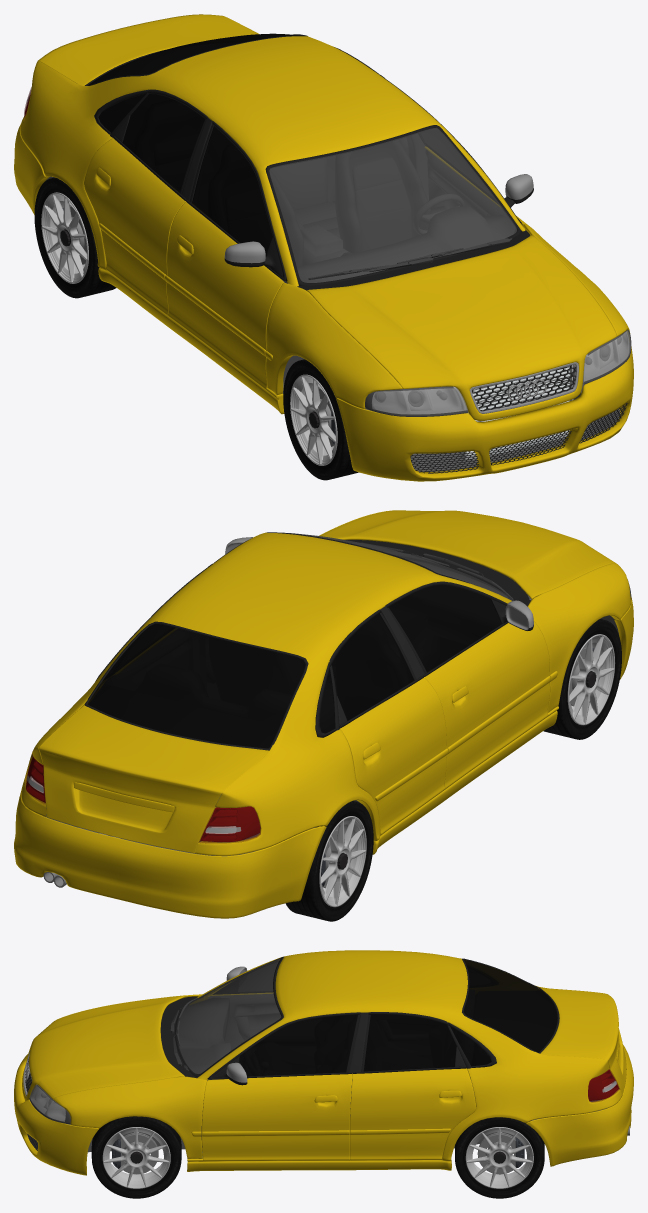
3 renders of one model, top to bottom at view 1: azimuth 30°, elevation 25°; view 2: azimuth 150°, elevation 25°; view 3: azimuth 270°, elevation 25°, orthographic. The views are drawn at different scales.
Visible parts, largest first — view 1: a4-b5-body_1, hood_62, windshield_48, front-bumper_18, front-door_23, front-fender_13, rear-door_92, seats-front_71, side-glass.001_25, dashboard_68, trunk_109, side-glass.002_94 (+28 smaller); view 2: a4-b5-body_1, trunk_109, rear-bumper_86, rear-glass_50, front-door_23, hood_62, rear-door_92, front-fender_13, side-glass.001_25, side-glass.002_94, tire-low-v1-02.001_105, rotiform-wheel.001_103 (+17 smaller); view 3: a4-b5-body_1, front-door_23, hood_62, rear-door_92, windshield_48, front-fender_13, side-glass.001_25, rear-glass_50, trunk_109, rear-bumper_86, side-glass.002_94, front-bumper_18 (+23 smaller).
Part boxes in pixels (bbox=[...]): a4-b5-body_1: bbox=[20, 22, 525, 286]; hood_62: bbox=[307, 235, 616, 420]; windshield_48: bbox=[269, 127, 516, 282]; front-bumper_18: bbox=[336, 346, 633, 481]; front-door_23: bbox=[166, 146, 531, 390]; front-fender_13: bbox=[266, 224, 630, 408]; rear-door_92: bbox=[83, 138, 185, 315]; seats-front_71: bbox=[269, 140, 430, 266]; side-glass.001_25: bbox=[192, 126, 521, 281]; dashboard_68: bbox=[280, 206, 515, 283]; trunk_109: bbox=[38, 14, 256, 85]; side-glass.002_94: bbox=[122, 94, 205, 192]; a4-b5-body_1: bbox=[21, 532, 511, 855]; trunk_109: bbox=[39, 705, 268, 853]; rear-bumper_86: bbox=[14, 791, 326, 918]; rear-glass_50: bbox=[87, 624, 305, 748]; front-door_23: bbox=[424, 621, 550, 789]; hood_62: bbox=[320, 510, 616, 598]; rear-door_92: bbox=[340, 678, 446, 835]; front-fender_13: bbox=[319, 510, 630, 712]; side-glass.001_25: bbox=[388, 585, 501, 672]; side-glass.002_94: bbox=[332, 613, 414, 720]; tire-low-v1-02.001_105: bbox=[285, 801, 373, 921]; rotiform-wheel.001_103: bbox=[319, 816, 366, 907]; a4-b5-body_1: bbox=[197, 950, 622, 1161]; front-door_23: bbox=[202, 993, 352, 1161]; hood_62: bbox=[22, 996, 184, 1100]; rear-door_92: bbox=[350, 1068, 476, 1160]; windshield_48: bbox=[177, 958, 281, 1073]; front-fender_13: bbox=[53, 994, 207, 1158]; side-glass.001_25: bbox=[207, 961, 357, 1079]; rear-glass_50: bbox=[463, 960, 557, 1052]; trunk_109: bbox=[539, 988, 626, 1095]; rear-bumper_86: bbox=[526, 1045, 633, 1166]; side-glass.002_94: bbox=[363, 1014, 456, 1071]; front-bumper_18: bbox=[14, 1054, 98, 1175].
Size of the model in its own units: 2.07 by 1.55 by 4.98.
33 materials, 1 textured.
